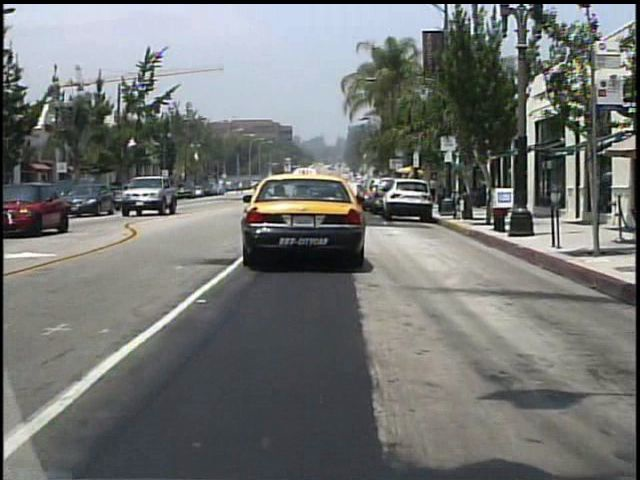person: (430, 177, 437, 200)
